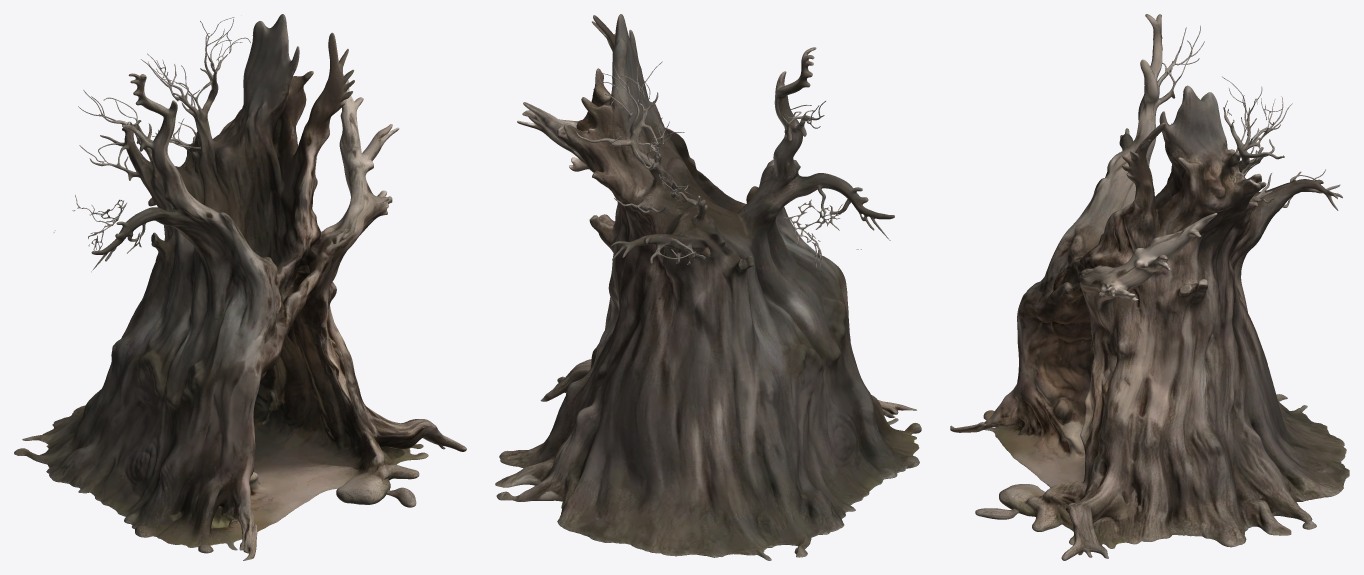
File: arvore_seca.compressed.glb
The picture shows the model from 3 angles, left to right: view 1: azimuth 30°, elevation 25°; view 2: azimuth 150°, elevation 25°; view 3: azimuth 270°, elevation 25°; orthographic projection. The views are drawn at different scales.
Bounding box in the file's own units: 1.65 × 1.9 × 1.65.
1 material, 1 textured.
